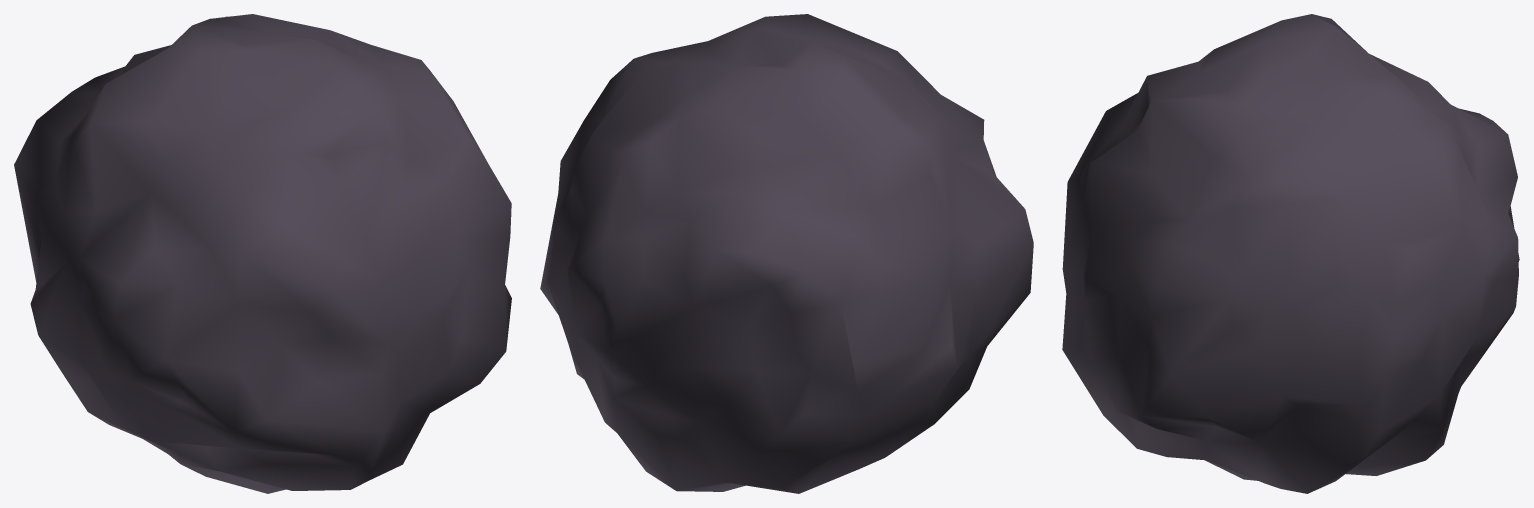
The model's file is Sem4_Environment_Stein05_JT.fbx.
3 views of the same model, side by side, from view 1: azimuth 30°, elevation 25°; view 2: azimuth 150°, elevation 25°; view 3: azimuth 270°, elevation 25° (orthographic). The views are drawn at different scales.
Visible parts, largest first — view 1: Stein05_JT; view 2: Stein05_JT; view 3: Stein05_JT.
Boxes of the visible parts, x1,y1,x2,y2 form: Stein05_JT: (14,14,511,493); Stein05_JT: (540,14,1033,493); Stein05_JT: (1062,14,1519,493).
Size of the model in its own units: 36.65 by 37.87 by 36.8.
